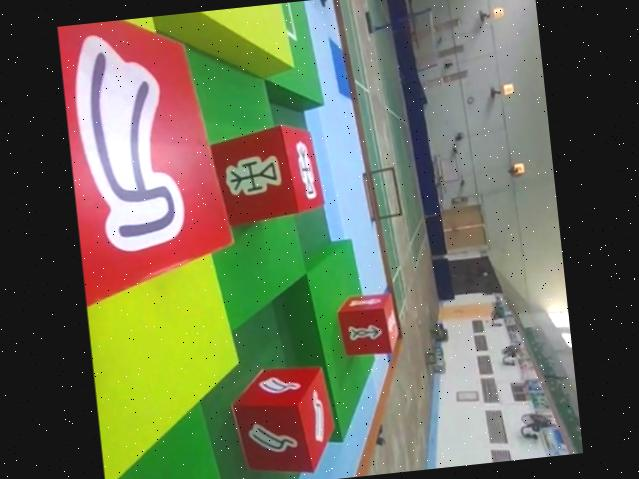R2 Fake: (57, 10, 241, 314)
R2 Real: (207, 118, 327, 230), (227, 363, 340, 479), (334, 288, 400, 358)
